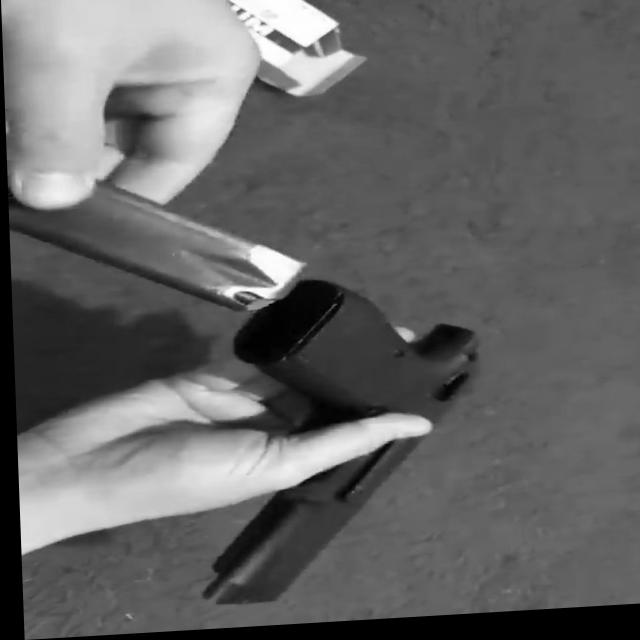handgun: (184, 271, 511, 614)
